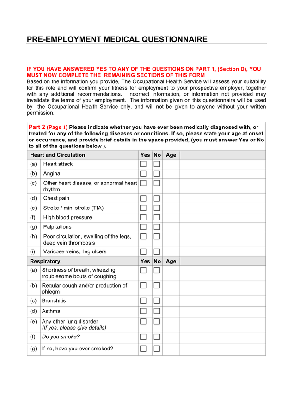checkbox: (138, 194, 148, 203), (138, 317, 147, 326), (152, 333, 162, 341), (138, 232, 148, 240), (152, 160, 161, 168), (153, 168, 161, 177), (153, 247, 161, 256), (152, 265, 161, 273), (153, 297, 161, 306), (139, 344, 148, 352), (139, 333, 148, 341), (139, 282, 148, 290), (140, 213, 149, 221), (139, 160, 148, 168), (140, 203, 147, 213), (153, 179, 161, 187), (153, 194, 161, 202), (153, 214, 161, 222), (153, 307, 161, 315), (153, 317, 161, 325), (153, 345, 161, 353), (140, 296, 148, 304), (139, 248, 147, 256), (153, 232, 160, 241), (139, 307, 147, 314), (140, 223, 148, 230), (140, 179, 147, 187), (139, 170, 147, 177), (153, 204, 160, 211), (153, 223, 160, 230), (153, 282, 160, 289), (140, 267, 147, 274)
textbox: (176, 278, 268, 298), (177, 176, 269, 196), (178, 315, 268, 335), (177, 263, 268, 282), (177, 229, 268, 248), (177, 304, 268, 322), (176, 342, 268, 359), (175, 293, 269, 309), (177, 330, 267, 346), (177, 190, 268, 205), (176, 166, 269, 180), (176, 200, 268, 214), (176, 157, 268, 171), (177, 211, 268, 225), (178, 244, 267, 258), (175, 220, 267, 233), (161, 229, 183, 249), (161, 177, 184, 195), (162, 314, 182, 334), (161, 263, 182, 282), (161, 279, 182, 297), (161, 291, 182, 308), (161, 199, 183, 215), (161, 330, 182, 346), (162, 167, 184, 182), (161, 342, 183, 357), (161, 157, 184, 171), (161, 211, 183, 225), (161, 304, 182, 318), (161, 191, 182, 204), (161, 246, 182, 259), (161, 221, 183, 233)
